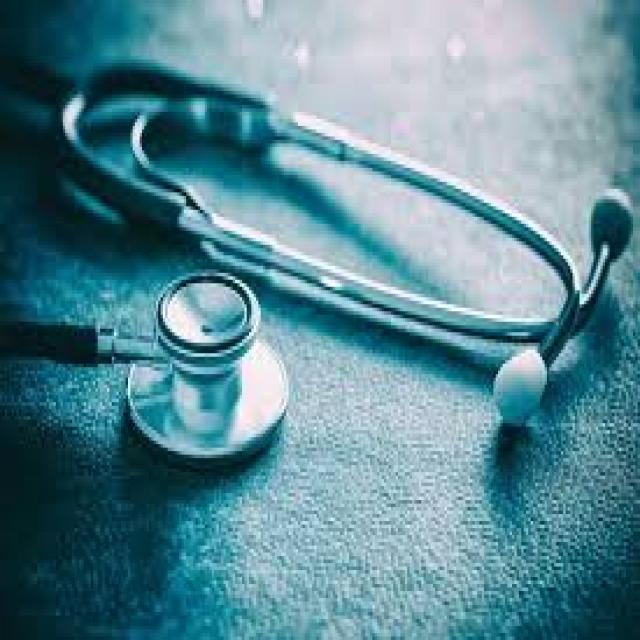stethoscope: (39, 43, 640, 497)
